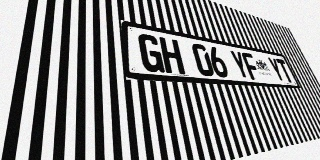0: (191, 43, 215, 77)
6: (206, 46, 230, 78)
F: (241, 52, 262, 80)
G: (137, 33, 165, 73)
H: (159, 37, 185, 75)
T: (275, 58, 294, 83)
Y: (229, 50, 251, 80), (267, 57, 286, 82)
